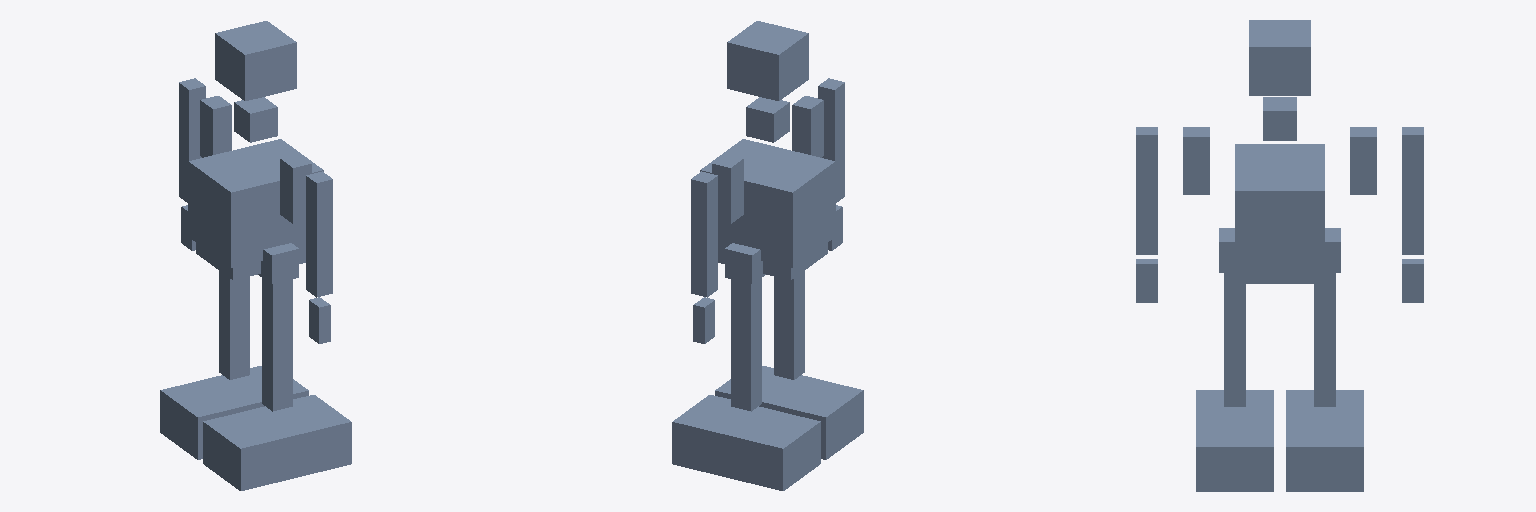
The robot description file, URDF, robot "atri_v2":
<?xml version="1.0"?>
<robot name="atri_v2">
  <!-- generated by design/v2/urdf.py ; units: mm -> m ; deg -> rad -->
  <!-- REVIEW: inertias and link masses are target-mass allocations, not actual CAD mass properties or measured masses. -->
  <!-- inertial method: purchased point masses + Al foot plates + TPU soles; remaining structure by non-foot box volume. -->
  <!-- root=pelvis. Spawn with z = pelvis height (see root_xyz_mm). -->
  <!-- root_xyz_mm="0.0 0.0 232.0" -->
  <!-- servo=STS3215-C018 n=20 rated_nm=0.98 -->
  <link name="pelvis">
    <visual>
      <origin xyz="0 0 0" rpy="0 0 0"/>
      <geometry>
        <box size="0.0900 0.0700 0.0240"/>
      </geometry>
      <material name="atri">
        <color rgba="0.55 0.62 0.72 1"/>
      </material>
    </visual>
    <collision>
      <origin xyz="0 0 0" rpy="0 0 0"/>
      <geometry>
        <box size="0.0900 0.0700 0.0240"/>
      </geometry>
    </collision>
    <inertial>
      <origin xyz="0.000000 0.000000 0.000000" rpy="0 0 0"/>
      <mass value="0.098725"/>
      <inertia ixx="0.000045051" ixy="0.000000000" ixz="0.000000000" iyy="0.000071378" iyz="0.000000000" izz="0.000106952"/>
    </inertial>
  </link>
  <link name="trunk_roll_link">
    <visual>
      <origin xyz="0 0 0" rpy="0 0 0"/>
      <geometry>
        <box size="0.0300 0.0300 0.0300"/>
      </geometry>
      <material name="atri">
        <color rgba="0.55 0.62 0.72 1"/>
      </material>
    </visual>
    <collision>
      <origin xyz="0 0 0" rpy="0 0 0"/>
      <geometry>
        <box size="0.0300 0.0300 0.0300"/>
      </geometry>
    </collision>
    <inertial>
      <origin xyz="0.000000 0.000000 0.003034" rpy="0 0 0"/>
      <mass value="0.072629"/>
      <inertia ixx="0.000014525" ixy="0.000000000" ixz="0.000000000" iyy="0.000011010" iyz="0.000000000" izz="0.000011009"/>
    </inertial>
  </link>
  <link name="torso">
    <visual>
      <origin xyz="0 0 0" rpy="0 0 0"/>
      <geometry>
        <box size="0.1000 0.0800 0.0780"/>
      </geometry>
      <material name="atri">
        <color rgba="0.55 0.62 0.72 1"/>
      </material>
    </visual>
    <collision>
      <origin xyz="0 0 0" rpy="0 0 0"/>
      <geometry>
        <box size="0.1000 0.0800 0.0780"/>
      </geometry>
    </collision>
    <inertial>
      <origin xyz="0.004238 -0.000951 0.013277" rpy="0 0 0"/>
      <mass value="0.683436"/>
      <inertia ixx="0.000875555" ixy="-0.000038375" ixz="-0.000094592" iyy="0.001197827" iyz="0.000016070" izz="0.001133422"/>
    </inertial>
  </link>
  <link name="head_yaw_link">
    <visual>
      <origin xyz="0 0 0" rpy="0 0 0"/>
      <geometry>
        <box size="0.0300 0.0300 0.0300"/>
      </geometry>
      <material name="atri">
        <color rgba="0.55 0.62 0.72 1"/>
      </material>
    </visual>
    <collision>
      <origin xyz="0 0 0" rpy="0 0 0"/>
      <geometry>
        <box size="0.0300 0.0300 0.0300"/>
      </geometry>
    </collision>
    <inertial>
      <origin xyz="0.000000 0.000000 0.007282" rpy="0 0 0"/>
      <mass value="0.072629"/>
      <inertia ixx="0.000024454" ixy="0.000000000" ixz="0.000000000" iyy="0.000020939" iyz="0.000000000" izz="0.000011009"/>
    </inertial>
  </link>
  <link name="head">
    <visual>
      <origin xyz="0 0 0" rpy="0 0 0"/>
      <geometry>
        <box size="0.0560 0.0560 0.0480"/>
      </geometry>
      <material name="atri">
        <color rgba="0.55 0.62 0.72 1"/>
      </material>
    </visual>
    <collision>
      <origin xyz="0 0 0" rpy="0 0 0"/>
      <geometry>
        <box size="0.0560 0.0560 0.0480"/>
      </geometry>
    </collision>
    <inertial>
      <origin xyz="0.000000 0.000000 0.000000" rpy="0 0 0"/>
      <mass value="0.153286"/>
      <inertia ixx="0.000054351" ixy="0.000000000" ixz="0.000000000" iyy="0.000050836" iyz="0.000000000" izz="0.000059735"/>
    </inertial>
  </link>
  <link name="left_hip_roll_link">
    <visual>
      <origin xyz="0 0 0" rpy="0 0 0"/>
      <geometry>
        <box size="0.0300 0.0300 0.0300"/>
      </geometry>
      <material name="atri">
        <color rgba="0.55 0.62 0.72 1"/>
      </material>
    </visual>
    <collision>
      <origin xyz="0 0 0" rpy="0 0 0"/>
      <geometry>
        <box size="0.0300 0.0300 0.0300"/>
      </geometry>
    </collision>
    <inertial>
      <origin xyz="0.000000 0.000000 -0.003884" rpy="0 0 0"/>
      <mass value="0.072629"/>
      <inertia ixx="0.000015857" ixy="0.000000000" ixz="0.000000000" iyy="0.000012341" iyz="0.000000000" izz="0.000011009"/>
    </inertial>
  </link>
  <link name="left_thigh">
    <visual>
      <origin xyz="0 0 0" rpy="0 0 0"/>
      <geometry>
        <box size="0.0220 0.0200 0.0780"/>
      </geometry>
      <material name="atri">
        <color rgba="0.55 0.62 0.72 1"/>
      </material>
    </visual>
    <collision>
      <origin xyz="0 0 0" rpy="0 0 0"/>
      <geometry>
        <box size="0.0220 0.0200 0.0780"/>
      </geometry>
    </collision>
    <inertial>
      <origin xyz="0.000000 0.000000 -0.011290" rpy="0 0 0"/>
      <mass value="0.077409"/>
      <inertia ixx="0.000046120" ixy="0.000000000" ixz="0.000000000" iyy="0.000042761" iyz="0.000000000" izz="0.000010015"/>
    </inertial>
  </link>
  <link name="left_shank">
    <visual>
      <origin xyz="0 0 0" rpy="0 0 0"/>
      <geometry>
        <box size="0.0220 0.0200 0.0780"/>
      </geometry>
      <material name="atri">
        <color rgba="0.55 0.62 0.72 1"/>
      </material>
    </visual>
    <collision>
      <origin xyz="0 0 0" rpy="0 0 0"/>
      <geometry>
        <box size="0.0220 0.0200 0.0780"/>
      </geometry>
    </collision>
    <inertial>
      <origin xyz="0.000000 0.000000 -0.011290" rpy="0 0 0"/>
      <mass value="0.077409"/>
      <inertia ixx="0.000046120" ixy="0.000000000" ixz="0.000000000" iyy="0.000042761" iyz="0.000000000" izz="0.000010015"/>
    </inertial>
  </link>
  <link name="left_foot">
    <visual>
      <origin xyz="0 0 0" rpy="0 0 0"/>
      <geometry>
        <box size="0.1200 0.0700 0.0440"/>
      </geometry>
      <material name="atri">
        <color rgba="0.55 0.62 0.72 1"/>
      </material>
    </visual>
    <collision>
      <origin xyz="0 0 0" rpy="0 0 0"/>
      <geometry>
        <box size="0.1200 0.0700 0.0440"/>
      </geometry>
    </collision>
    <inertial>
      <origin xyz="0.000000 0.000000 -0.022597" rpy="0 0 0"/>
      <mass value="0.120360"/>
      <inertia ixx="0.000088277" ixy="0.000000000" ixz="0.000000000" iyy="0.000136505" iyz="0.000000000" izz="0.000113485"/>
    </inertial>
  </link>
  <link name="right_hip_roll_link">
    <visual>
      <origin xyz="0 0 0" rpy="0 0 0"/>
      <geometry>
        <box size="0.0300 0.0300 0.0300"/>
      </geometry>
      <material name="atri">
        <color rgba="0.55 0.62 0.72 1"/>
      </material>
    </visual>
    <collision>
      <origin xyz="0 0 0" rpy="0 0 0"/>
      <geometry>
        <box size="0.0300 0.0300 0.0300"/>
      </geometry>
    </collision>
    <inertial>
      <origin xyz="0.000000 0.000000 -0.003884" rpy="0 0 0"/>
      <mass value="0.072629"/>
      <inertia ixx="0.000015857" ixy="0.000000000" ixz="0.000000000" iyy="0.000012341" iyz="0.000000000" izz="0.000011009"/>
    </inertial>
  </link>
  <link name="right_thigh">
    <visual>
      <origin xyz="0 0 0" rpy="0 0 0"/>
      <geometry>
        <box size="0.0220 0.0200 0.0780"/>
      </geometry>
      <material name="atri">
        <color rgba="0.55 0.62 0.72 1"/>
      </material>
    </visual>
    <collision>
      <origin xyz="0 0 0" rpy="0 0 0"/>
      <geometry>
        <box size="0.0220 0.0200 0.0780"/>
      </geometry>
    </collision>
    <inertial>
      <origin xyz="0.000000 0.000000 -0.011290" rpy="0 0 0"/>
      <mass value="0.077409"/>
      <inertia ixx="0.000046120" ixy="0.000000000" ixz="0.000000000" iyy="0.000042761" iyz="0.000000000" izz="0.000010015"/>
    </inertial>
  </link>
  <link name="right_shank">
    <visual>
      <origin xyz="0 0 0" rpy="0 0 0"/>
      <geometry>
        <box size="0.0220 0.0200 0.0780"/>
      </geometry>
      <material name="atri">
        <color rgba="0.55 0.62 0.72 1"/>
      </material>
    </visual>
    <collision>
      <origin xyz="0 0 0" rpy="0 0 0"/>
      <geometry>
        <box size="0.0220 0.0200 0.0780"/>
      </geometry>
    </collision>
    <inertial>
      <origin xyz="0.000000 0.000000 -0.011290" rpy="0 0 0"/>
      <mass value="0.077409"/>
      <inertia ixx="0.000046120" ixy="0.000000000" ixz="0.000000000" iyy="0.000042761" iyz="0.000000000" izz="0.000010015"/>
    </inertial>
  </link>
  <link name="right_foot">
    <visual>
      <origin xyz="0 0 0" rpy="0 0 0"/>
      <geometry>
        <box size="0.1200 0.0700 0.0440"/>
      </geometry>
      <material name="atri">
        <color rgba="0.55 0.62 0.72 1"/>
      </material>
    </visual>
    <collision>
      <origin xyz="0 0 0" rpy="0 0 0"/>
      <geometry>
        <box size="0.1200 0.0700 0.0440"/>
      </geometry>
    </collision>
    <inertial>
      <origin xyz="0.000000 0.000000 -0.022597" rpy="0 0 0"/>
      <mass value="0.120360"/>
      <inertia ixx="0.000088277" ixy="0.000000000" ixz="0.000000000" iyy="0.000136505" iyz="0.000000000" izz="0.000113485"/>
    </inertial>
  </link>
  <link name="left_upper">
    <visual>
      <origin xyz="0 0 0" rpy="0 0 0"/>
      <geometry>
        <box size="0.0200 0.0240 0.0580"/>
      </geometry>
      <material name="atri">
        <color rgba="0.55 0.62 0.72 1"/>
      </material>
    </visual>
    <collision>
      <origin xyz="0 0 0" rpy="0 0 0"/>
      <geometry>
        <box size="0.0200 0.0240 0.0580"/>
      </geometry>
    </collision>
    <inertial>
      <origin xyz="0.000000 0.005465 0.000000" rpy="0 0 0"/>
      <mass value="0.073178"/>
      <inertia ixx="0.000022376" ixy="0.000000000" ixz="0.000000000" iyy="0.000011981" iyz="0.000000000" izz="0.000016456"/>
    </inertial>
  </link>
  <link name="left_fore">
    <visual>
      <origin xyz="0 0 0" rpy="0 0 0"/>
      <geometry>
        <box size="0.0180 0.0200 0.0600"/>
      </geometry>
      <material name="atri">
        <color rgba="0.55 0.62 0.72 1"/>
      </material>
    </visual>
    <collision>
      <origin xyz="0 0 0" rpy="0 0 0"/>
      <geometry>
        <box size="0.0180 0.0200 0.0600"/>
      </geometry>
    </collision>
    <inertial>
      <origin xyz="0.000000 0.000000 -0.005919" rpy="0 0 0"/>
      <mass value="0.069104"/>
      <inertia ixx="0.000023936" ixy="0.000000000" ixz="0.000000000" iyy="0.000020331" iyz="0.000000000" izz="0.000009215"/>
    </inertial>
  </link>
  <link name="left_hand">
    <visual>
      <origin xyz="0 0 0" rpy="0 0 0"/>
      <geometry>
        <box size="0.0180 0.0200 0.0600"/>
      </geometry>
      <material name="atri">
        <color rgba="0.55 0.62 0.72 1"/>
      </material>
    </visual>
    <collision>
      <origin xyz="0 0 0" rpy="0 0 0"/>
      <geometry>
        <box size="0.0180 0.0200 0.0600"/>
      </geometry>
    </collision>
    <inertial>
      <origin xyz="0.000000 0.000000 -0.006123" rpy="0 0 0"/>
      <mass value="0.069104"/>
      <inertia ixx="0.000024598" ixy="0.000000000" ixz="0.000000000" iyy="0.000020994" iyz="0.000000000" izz="0.000009215"/>
    </inertial>
  </link>
  <link name="right_upper">
    <visual>
      <origin xyz="0 0 0" rpy="0 0 0"/>
      <geometry>
        <box size="0.0200 0.0240 0.0580"/>
      </geometry>
      <material name="atri">
        <color rgba="0.55 0.62 0.72 1"/>
      </material>
    </visual>
    <collision>
      <origin xyz="0 0 0" rpy="0 0 0"/>
      <geometry>
        <box size="0.0200 0.0240 0.0580"/>
      </geometry>
    </collision>
    <inertial>
      <origin xyz="0.000000 -0.005465 0.000000" rpy="0 0 0"/>
      <mass value="0.073178"/>
      <inertia ixx="0.000022376" ixy="0.000000000" ixz="0.000000000" iyy="0.000011981" iyz="0.000000000" izz="0.000016456"/>
    </inertial>
  </link>
  <link name="right_fore">
    <visual>
      <origin xyz="0 0 0" rpy="0 0 0"/>
      <geometry>
        <box size="0.0180 0.0200 0.0600"/>
      </geometry>
      <material name="atri">
        <color rgba="0.55 0.62 0.72 1"/>
      </material>
    </visual>
    <collision>
      <origin xyz="0 0 0" rpy="0 0 0"/>
      <geometry>
        <box size="0.0180 0.0200 0.0600"/>
      </geometry>
    </collision>
    <inertial>
      <origin xyz="0.000000 0.000000 -0.005919" rpy="0 0 0"/>
      <mass value="0.069104"/>
      <inertia ixx="0.000023936" ixy="0.000000000" ixz="0.000000000" iyy="0.000020331" iyz="0.000000000" izz="0.000009215"/>
    </inertial>
  </link>
  <link name="right_hand">
    <visual>
      <origin xyz="0 0 0" rpy="0 0 0"/>
      <geometry>
        <box size="0.0180 0.0200 0.0600"/>
      </geometry>
      <material name="atri">
        <color rgba="0.55 0.62 0.72 1"/>
      </material>
    </visual>
    <collision>
      <origin xyz="0 0 0" rpy="0 0 0"/>
      <geometry>
        <box size="0.0180 0.0200 0.0600"/>
      </geometry>
    </collision>
    <inertial>
      <origin xyz="0.000000 0.000000 -0.006123" rpy="0 0 0"/>
      <mass value="0.069104"/>
      <inertia ixx="0.000024598" ixy="0.000000000" ixz="0.000000000" iyy="0.000020994" iyz="0.000000000" izz="0.000009215"/>
    </inertial>
  </link>
  <link name="left_grip">
    <visual>
      <origin xyz="0 0 0" rpy="0 0 0"/>
      <geometry>
        <box size="0.0120 0.0200 0.0380"/>
      </geometry>
      <material name="atri">
        <color rgba="0.55 0.62 0.72 1"/>
      </material>
    </visual>
    <collision>
      <origin xyz="0 0 0" rpy="0 0 0"/>
      <geometry>
        <box size="0.0120 0.0200 0.0380"/>
      </geometry>
    </collision>
    <inertial>
      <origin xyz="0.000000 0.000000 0.000000" rpy="0 0 0"/>
      <mass value="0.060955"/>
      <inertia ixx="0.000010710" ixy="0.000000000" ixz="0.000000000" iyy="0.000007067" iyz="0.000000000" izz="0.000008635"/>
    </inertial>
  </link>
  <link name="right_grip">
    <visual>
      <origin xyz="0 0 0" rpy="0 0 0"/>
      <geometry>
        <box size="0.0120 0.0200 0.0380"/>
      </geometry>
      <material name="atri">
        <color rgba="0.55 0.62 0.72 1"/>
      </material>
    </visual>
    <collision>
      <origin xyz="0 0 0" rpy="0 0 0"/>
      <geometry>
        <box size="0.0120 0.0200 0.0380"/>
      </geometry>
    </collision>
    <inertial>
      <origin xyz="0.000000 0.000000 0.000000" rpy="0 0 0"/>
      <mass value="0.060955"/>
      <inertia ixx="0.000010710" ixy="0.000000000" ixz="0.000000000" iyy="0.000007067" iyz="0.000000000" izz="0.000008635"/>
    </inertial>
  </link>
  <joint name="trunk_roll" type="revolute">
    <parent link="pelvis"/>
    <child link="trunk_roll_link"/>
    <origin xyz="0.000000 0.000000 0.018000" rpy="0 0 0"/>
    <axis xyz="1 0 0"/>
    <limit lower="-0.174533" upper="0.174533" effort="0.980" velocity="4.717106"/>
  </joint>
  <joint name="trunk_pitch" type="revolute">
    <parent link="trunk_roll_link"/>
    <child link="torso"/>
    <origin xyz="0.000000 0.000000 0.025000" rpy="0 0 0"/>
    <axis xyz="0 1 0"/>
    <limit lower="-0.261799" upper="0.261799" effort="0.980" velocity="4.717106"/>
  </joint>
  <joint name="head_yaw" type="revolute">
    <parent link="torso"/>
    <child link="head_yaw_link"/>
    <origin xyz="0.000000 0.000000 0.087000" rpy="0 0 0"/>
    <axis xyz="0 0 1"/>
    <limit lower="-1.570796" upper="1.570796" effort="0.980" velocity="4.717106"/>
  </joint>
  <joint name="head_pitch" type="revolute">
    <parent link="head_yaw_link"/>
    <child link="head"/>
    <origin xyz="0.000000 0.000000 0.060000" rpy="0 0 0"/>
    <axis xyz="0 1 0"/>
    <limit lower="-0.785398" upper="0.785398" effort="0.980" velocity="4.717106"/>
  </joint>
  <joint name="left_hip_roll" type="revolute">
    <parent link="pelvis"/>
    <child link="left_hip_roll_link"/>
    <origin xyz="0.000000 0.040000 0.000000" rpy="0 0 0"/>
    <axis xyz="1 0 0"/>
    <limit lower="0.000000" upper="0.436332" effort="0.980" velocity="4.717106"/>
  </joint>
  <joint name="left_hip_pitch" type="revolute">
    <parent link="left_hip_roll_link"/>
    <child link="left_thigh"/>
    <origin xyz="0.000000 0.000000 -0.032000" rpy="0 0 0"/>
    <axis xyz="0 1 0"/>
    <limit lower="-1.047198" upper="1.047198" effort="0.980" velocity="4.717106"/>
  </joint>
  <joint name="left_knee_pitch" type="revolute">
    <parent link="left_thigh"/>
    <child link="left_shank"/>
    <origin xyz="0.000000 0.000000 -0.078000" rpy="0 0 0"/>
    <axis xyz="0 1 0"/>
    <limit lower="0.000000" upper="1.570796" effort="0.980" velocity="4.717106"/>
  </joint>
  <joint name="left_ankle_pitch" type="revolute">
    <parent link="left_shank"/>
    <child link="left_foot"/>
    <origin xyz="0.000000 0.000000 -0.078000" rpy="0 0 0"/>
    <axis xyz="0 1 0"/>
    <limit lower="-0.698132" upper="0.698132" effort="0.980" velocity="4.717106"/>
  </joint>
  <joint name="right_hip_roll" type="revolute">
    <parent link="pelvis"/>
    <child link="right_hip_roll_link"/>
    <origin xyz="0.000000 -0.040000 0.000000" rpy="0 0 0"/>
    <axis xyz="1 0 0"/>
    <limit lower="-0.436332" upper="0.000000" effort="0.980" velocity="4.717106"/>
  </joint>
  <joint name="right_hip_pitch" type="revolute">
    <parent link="right_hip_roll_link"/>
    <child link="right_thigh"/>
    <origin xyz="0.000000 0.000000 -0.032000" rpy="0 0 0"/>
    <axis xyz="0 1 0"/>
    <limit lower="-1.047198" upper="1.047198" effort="0.980" velocity="4.717106"/>
  </joint>
  <joint name="right_knee_pitch" type="revolute">
    <parent link="right_thigh"/>
    <child link="right_shank"/>
    <origin xyz="0.000000 0.000000 -0.078000" rpy="0 0 0"/>
    <axis xyz="0 1 0"/>
    <limit lower="0.000000" upper="1.570796" effort="0.980" velocity="4.717106"/>
  </joint>
  <joint name="right_ankle_pitch" type="revolute">
    <parent link="right_shank"/>
    <child link="right_foot"/>
    <origin xyz="0.000000 0.000000 -0.078000" rpy="0 0 0"/>
    <axis xyz="0 1 0"/>
    <limit lower="-0.698132" upper="0.698132" effort="0.980" velocity="4.717106"/>
  </joint>
  <joint name="left_shoulder_pitch" type="revolute">
    <parent link="torso"/>
    <child link="left_upper"/>
    <origin xyz="0.000000 0.075000 0.045000" rpy="0 0 0"/>
    <axis xyz="0 1 0"/>
    <limit lower="-1.570796" upper="1.570796" effort="0.980" velocity="4.717106"/>
  </joint>
  <joint name="left_shoulder_roll" type="revolute">
    <parent link="left_upper"/>
    <child link="left_fore"/>
    <origin xyz="0.000000 0.044000 0.000000" rpy="0 0 0"/>
    <axis xyz="1 0 0"/>
    <limit lower="0.000000" upper="1.570796" effort="0.980" velocity="4.717106"/>
  </joint>
  <joint name="left_elbow_pitch" type="revolute">
    <parent link="left_fore"/>
    <child link="left_hand"/>
    <origin xyz="0.000000 0.000000 -0.058000" rpy="0 0 0"/>
    <axis xyz="0 1 0"/>
    <limit lower="-2.094395" upper="0.000000" effort="0.980" velocity="4.717106"/>
  </joint>
  <joint name="left_gripper" type="revolute">
    <parent link="left_hand"/>
    <child link="left_grip"/>
    <origin xyz="0.000000 0.000000 -0.060000" rpy="0 0 0"/>
    <axis xyz="1 0 0"/>
    <limit lower="0.000000" upper="1.047198" effort="0.980" velocity="4.717106"/>
  </joint>
  <joint name="right_shoulder_pitch" type="revolute">
    <parent link="torso"/>
    <child link="right_upper"/>
    <origin xyz="0.000000 -0.075000 0.045000" rpy="0 0 0"/>
    <axis xyz="0 -1 0"/>
    <limit lower="-1.570796" upper="1.570796" effort="0.980" velocity="4.717106"/>
  </joint>
  <joint name="right_shoulder_roll" type="revolute">
    <parent link="right_upper"/>
    <child link="right_fore"/>
    <origin xyz="0.000000 -0.044000 0.000000" rpy="0 0 0"/>
    <axis xyz="1 0 0"/>
    <limit lower="-1.570796" upper="0.000000" effort="0.980" velocity="4.717106"/>
  </joint>
  <joint name="right_elbow_pitch" type="revolute">
    <parent link="right_fore"/>
    <child link="right_hand"/>
    <origin xyz="0.000000 0.000000 -0.058000" rpy="0 0 0"/>
    <axis xyz="0 1 0"/>
    <limit lower="-2.094395" upper="0.000000" effort="0.980" velocity="4.717106"/>
  </joint>
  <joint name="right_gripper" type="revolute">
    <parent link="right_hand"/>
    <child link="right_grip"/>
    <origin xyz="0.000000 0.000000 -0.060000" rpy="0 0 0"/>
    <axis xyz="1 0 0"/>
    <limit lower="0.000000" upper="1.047198" effort="0.980" velocity="4.717106"/>
  </joint>
</robot>

--- Facts derived from the render (not from the file) ---
The picture shows the robot from 3 angles, left to right: view 1: azimuth 30°, elevation 25°; view 2: azimuth 150°, elevation 25°; view 3: azimuth 270°, elevation 25°; orthographic projection.
Model atri_v2 with 21 links and 20 joints (20 revolute), rooted at pelvis, posed every joint at zero.
Visible links, largest first — view 1: torso, right_foot, head, left_foot, right_shank, left_shank, left_upper, right_upper, right_fore, head_yaw_link, right_thigh, right_hand (+6 smaller); view 2: torso, left_foot, head, right_foot, left_shank, right_shank, right_upper, left_upper, left_fore, head_yaw_link, left_thigh, left_hand (+6 smaller); view 3: torso, left_foot, right_foot, head, left_upper, right_upper, left_shank, right_shank, left_fore, right_fore, head_yaw_link, right_hand (+8 smaller).
Link boxes in pixels (x1,y1,x2,y2): torso: (188, 139, 323, 267); right_foot: (203, 395, 351, 490); head: (215, 21, 296, 100); left_foot: (160, 366, 308, 459); right_shank: (262, 329, 292, 411); left_shank: (219, 297, 249, 379); left_upper: (200, 96, 231, 157); right_upper: (280, 154, 311, 223); right_fore: (306, 171, 332, 240); head_yaw_link: (234, 97, 277, 142); right_thigh: (262, 278, 292, 335); right_hand: (306, 234, 332, 297); torso: (700, 139, 835, 267); left_foot: (672, 395, 820, 490); head: (727, 21, 808, 100); right_foot: (715, 366, 863, 459); left_shank: (731, 329, 761, 411); right_shank: (774, 297, 804, 379); right_upper: (792, 96, 823, 157); left_upper: (712, 154, 743, 223); left_fore: (691, 171, 717, 240); head_yaw_link: (746, 97, 789, 142); left_thigh: (731, 278, 761, 335); left_hand: (691, 234, 717, 297); torso: (1235, 144, 1324, 269); left_foot: (1286, 390, 1363, 491); right_foot: (1196, 390, 1273, 491); head: (1249, 20, 1310, 95); left_upper: (1350, 127, 1376, 194); right_upper: (1183, 127, 1209, 194); left_shank: (1314, 328, 1335, 406); right_shank: (1224, 328, 1245, 406); left_fore: (1402, 127, 1423, 195); right_fore: (1136, 127, 1157, 195); head_yaw_link: (1263, 97, 1296, 140); right_hand: (1136, 194, 1157, 254).
Size in the robot's own frame: 0.12 by 0.258 by 0.424 metres.
Geometry: primitives only (box / cylinder / sphere), no mesh files.
